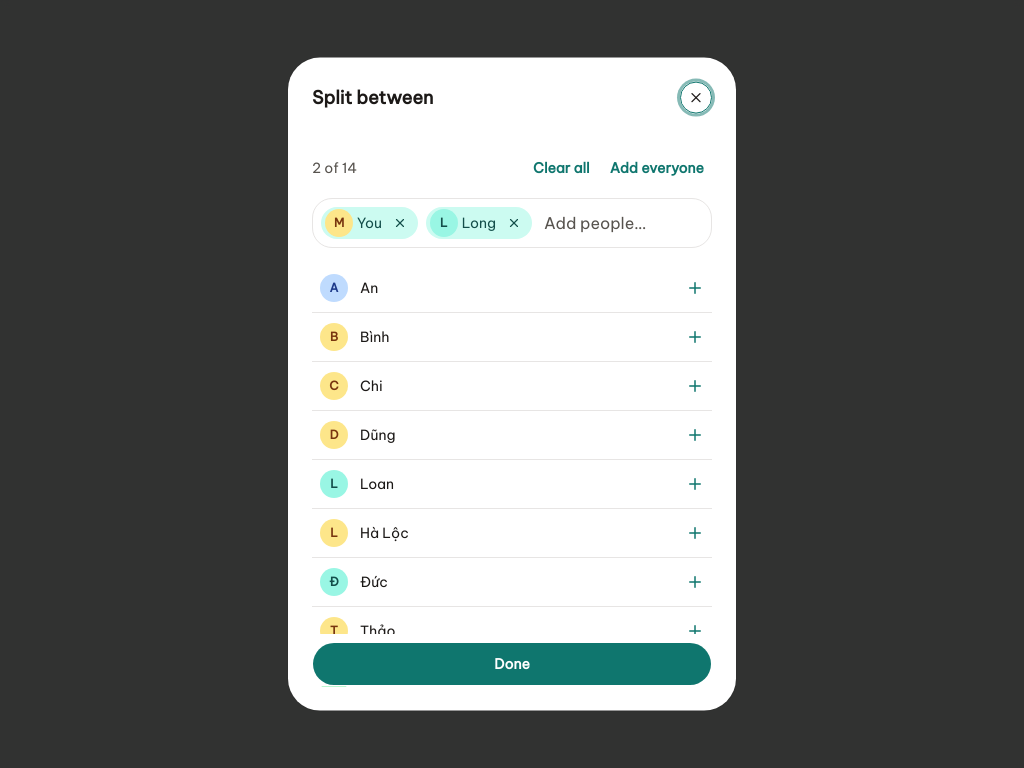
Test case: SplitPeopleSheet, searching › × removes the chip and the person is suggested again
The width and height of the screenshot is (1024, 768).
Click the button named "Remove Long" at (514, 223), box x1=500 y1=209 x2=528 y2=237
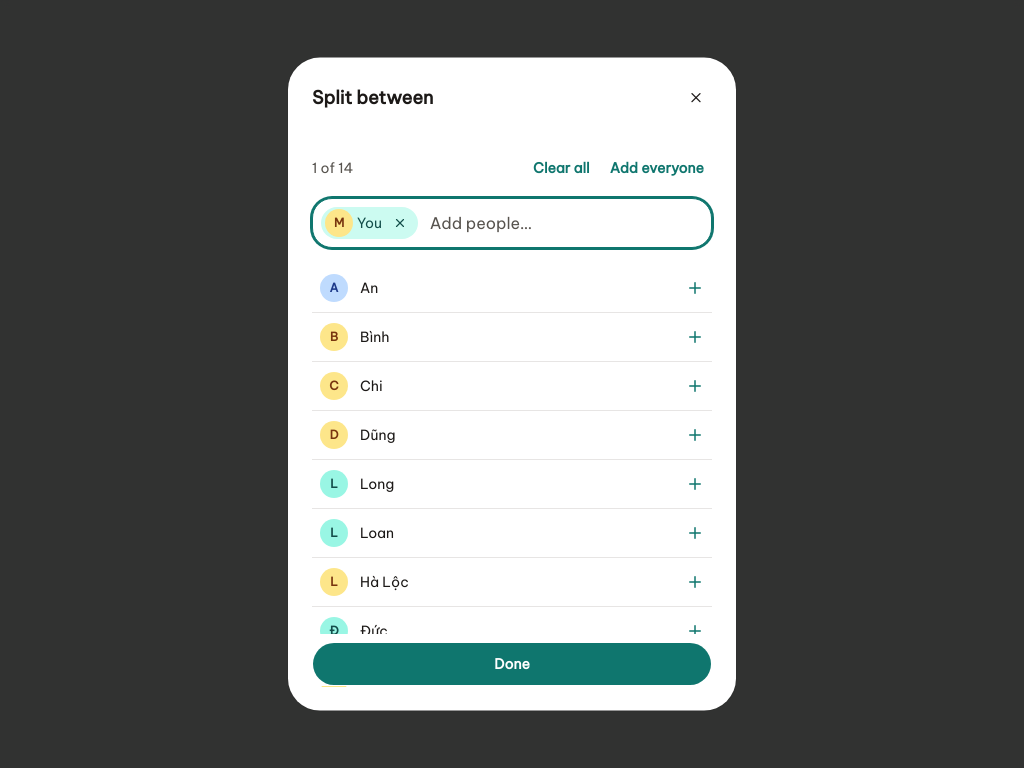
Now the button with aria-label "Add Long" is shown, box x1=312 y1=460 x2=712 y2=508
